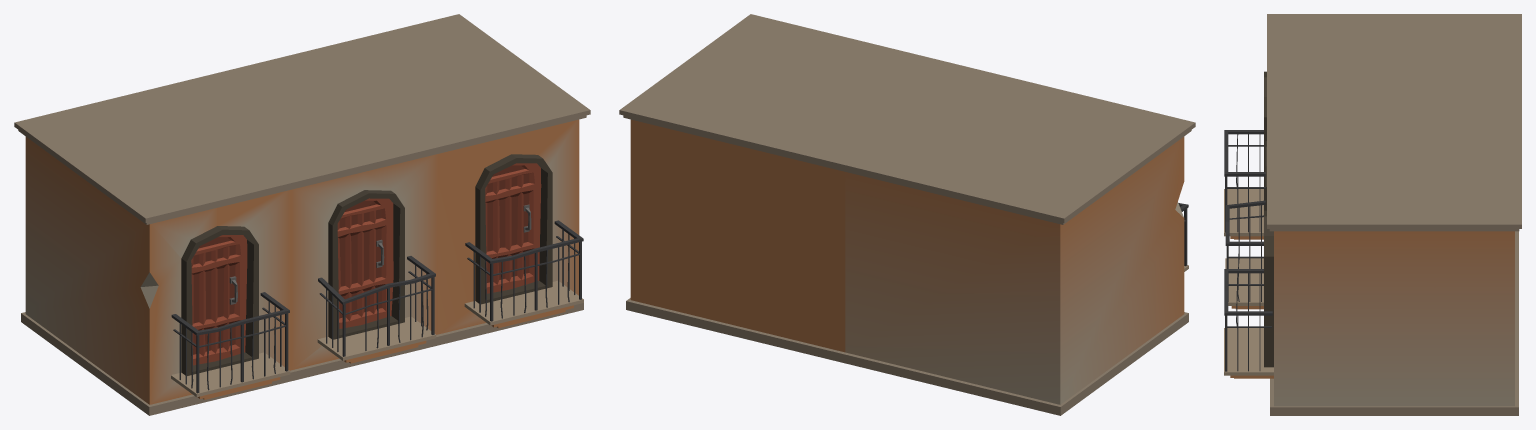
Rendered from SM_Bld_Cuba_Room_Long_03.glb.
The picture shows the model from 3 angles, left to right: view 1: azimuth 30°, elevation 25°; view 2: azimuth 150°, elevation 25°; view 3: azimuth 270°, elevation 25°; orthographic projection. The views are drawn at different scales.
Visible parts, largest first — view 1: SM_Bld_Cuba_Room_Long_03; view 2: SM_Bld_Cuba_Room_Long_03; view 3: SM_Bld_Cuba_Room_Long_03.
Boxes of the visible parts, <box> form: SM_Bld_Cuba_Room_Long_03: <box>14,14,590,415</box>; SM_Bld_Cuba_Room_Long_03: <box>619,14,1195,415</box>; SM_Bld_Cuba_Room_Long_03: <box>1224,14,1521,415</box>.
Bounding box in the file's own units: 0.0776 × 0.0333 × 0.0464.
